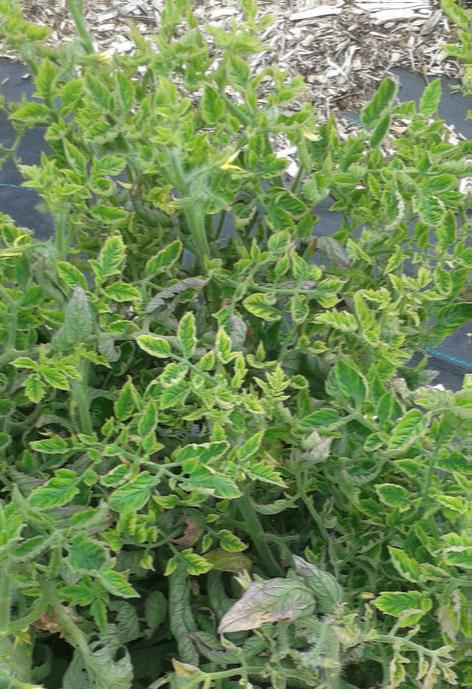Tomato leaf yellow virus: (24, 462, 94, 515), (65, 532, 130, 583), (380, 402, 435, 459), (363, 162, 407, 230), (90, 561, 149, 607), (374, 587, 441, 627), (107, 471, 169, 513), (329, 352, 368, 414), (359, 77, 411, 122), (56, 253, 97, 309), (367, 478, 421, 515), (92, 233, 129, 286), (85, 64, 121, 115), (186, 435, 235, 472), (83, 155, 128, 195), (186, 471, 248, 500), (386, 543, 429, 582), (294, 405, 344, 438), (247, 457, 294, 491), (61, 129, 97, 172), (237, 421, 273, 463), (214, 524, 267, 552), (314, 306, 363, 336), (431, 256, 458, 309), (35, 52, 59, 108), (412, 189, 448, 226), (177, 309, 205, 356), (107, 277, 149, 308), (201, 82, 231, 124), (175, 545, 217, 574), (255, 156, 301, 182), (136, 401, 165, 442), (417, 77, 448, 115), (38, 363, 77, 392), (114, 372, 138, 419), (246, 290, 279, 324), (163, 357, 196, 391), (137, 334, 176, 362), (213, 323, 239, 363), (85, 203, 131, 225), (0, 492, 13, 569), (270, 226, 296, 258)
